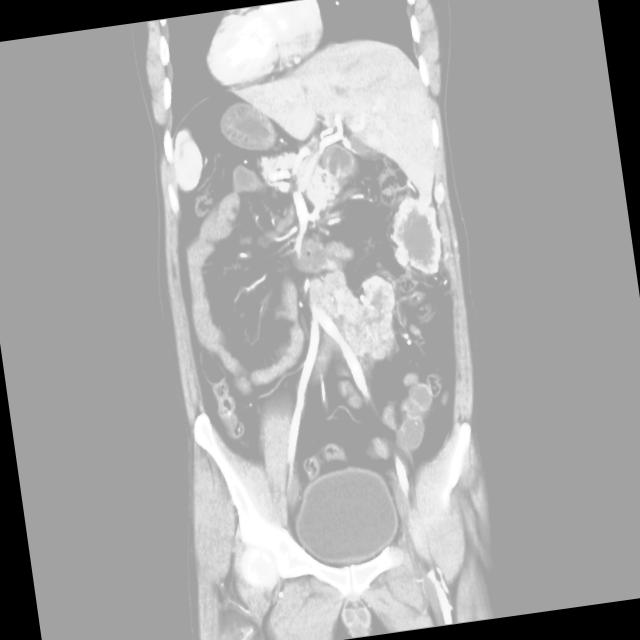TUMOR: (72, 158, 484, 458)
